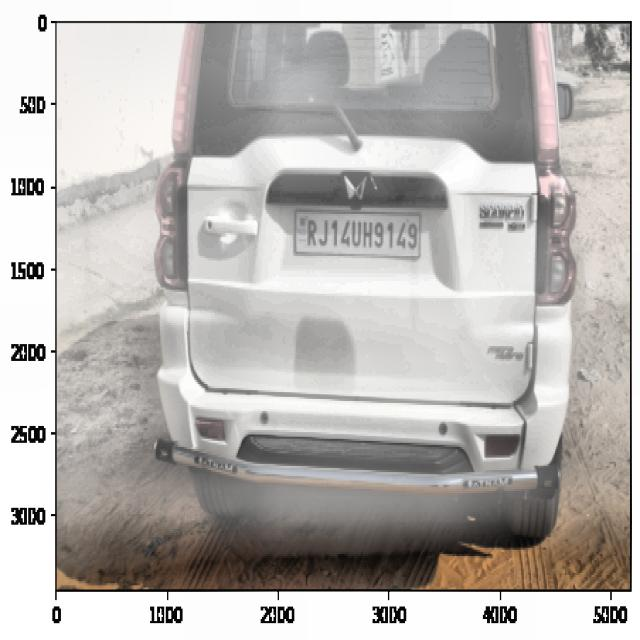license_plate: (299, 212, 422, 258)
